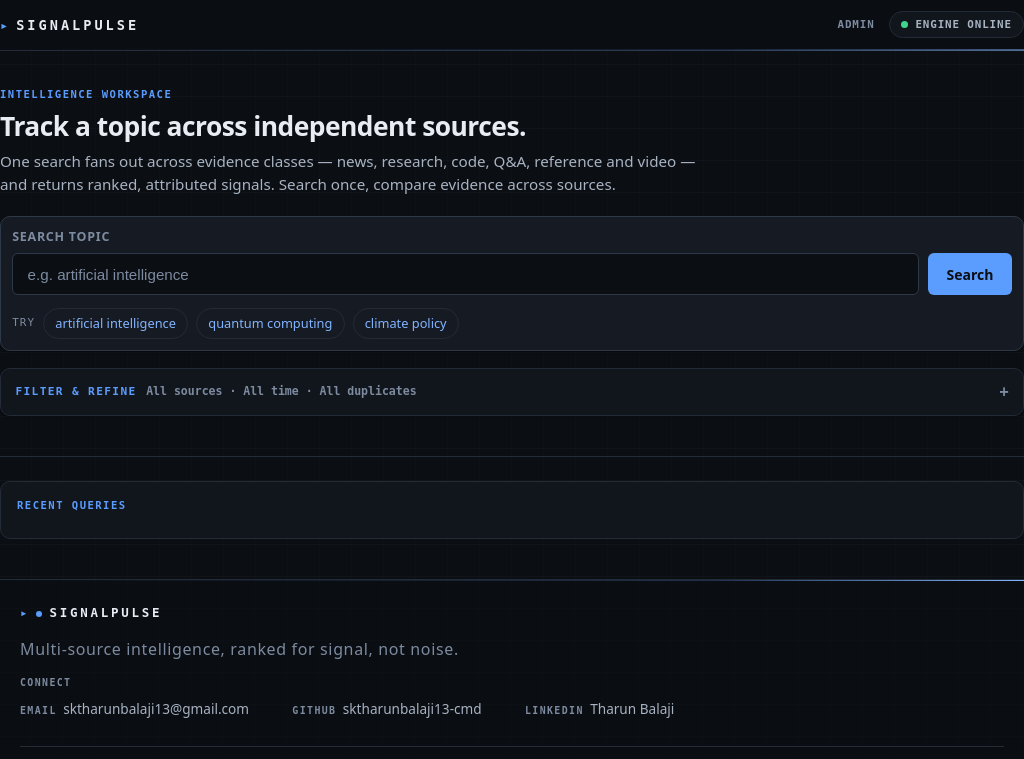
Test: App › paginates through results
Type "ai" into the field labelled "Search topic" at (465, 274), box [12,253,918,295]
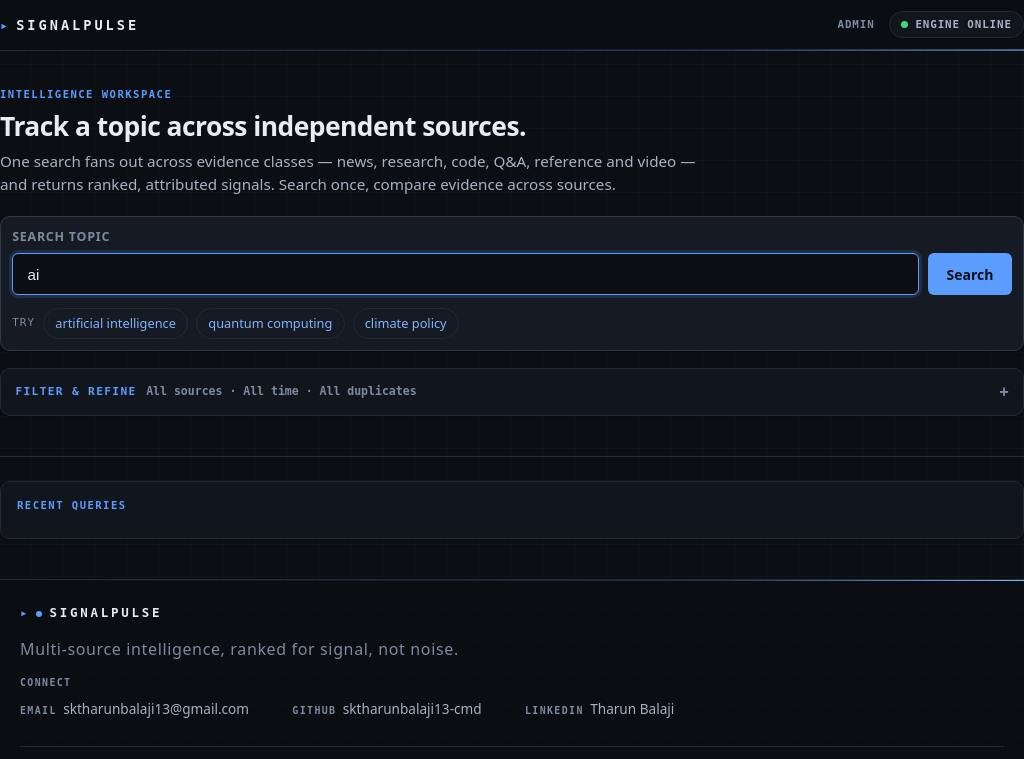
Click the button "Search" at (970, 274), box [928,253,1012,295]
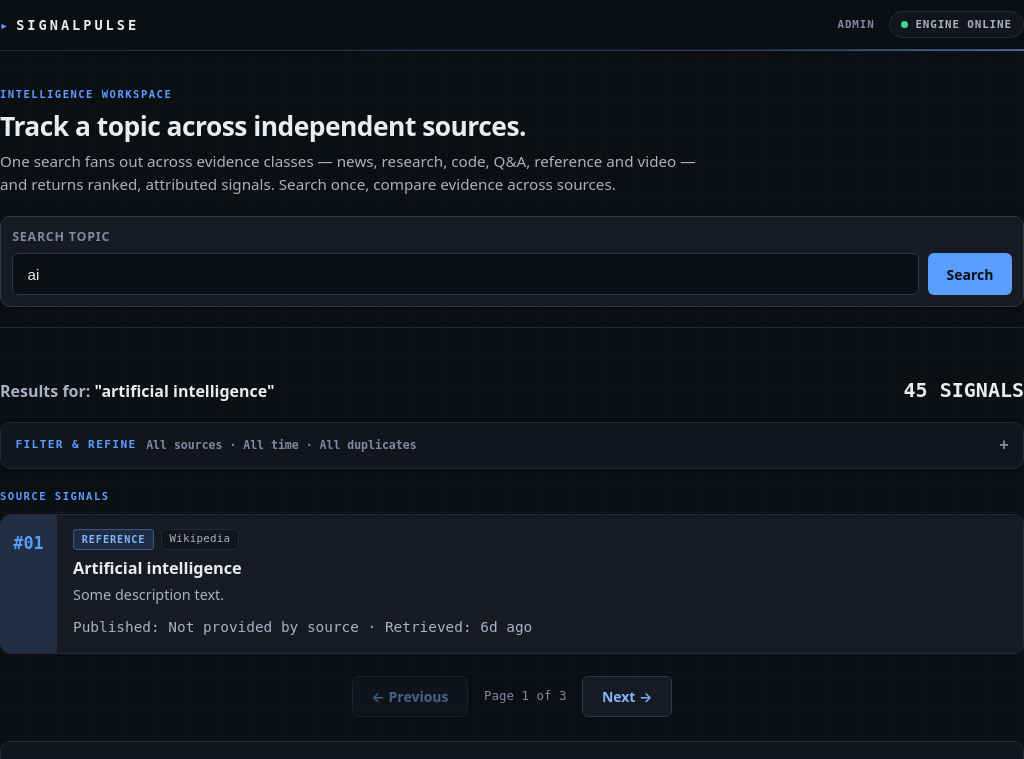
Click the button "Next →" at (627, 696), box [582,676,672,717]
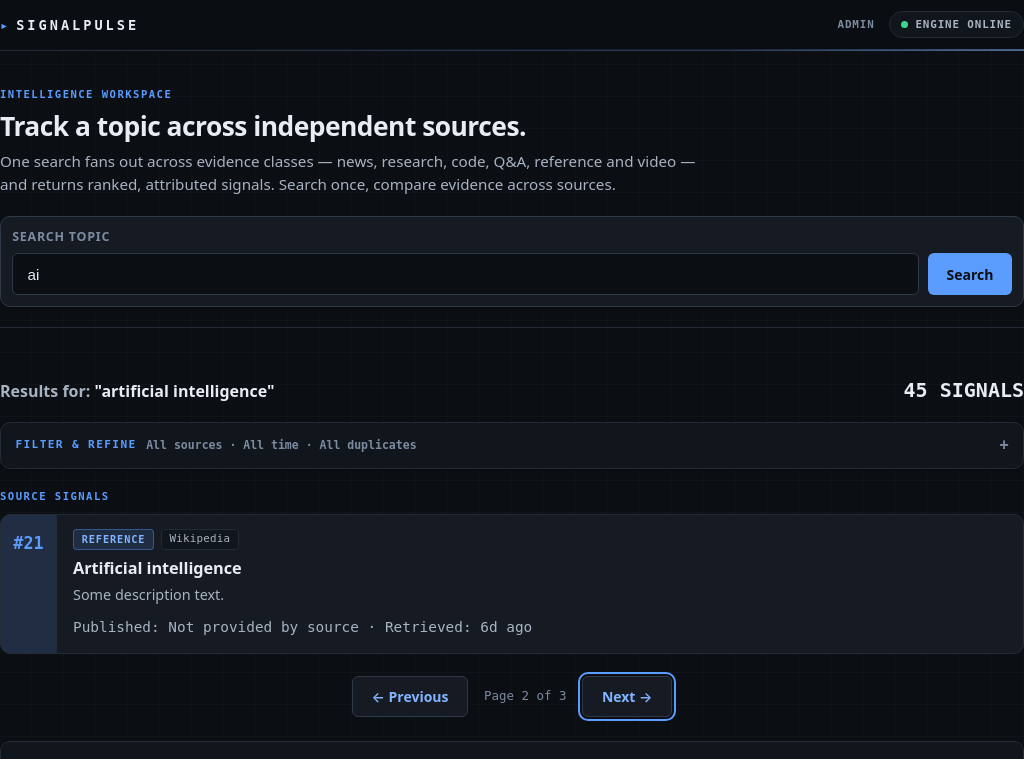
Check: the text "Page 2 of 3" is shown, box [484,687,566,706]
